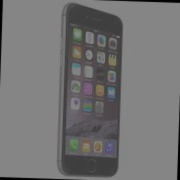iphone: (59, 3, 121, 177)
